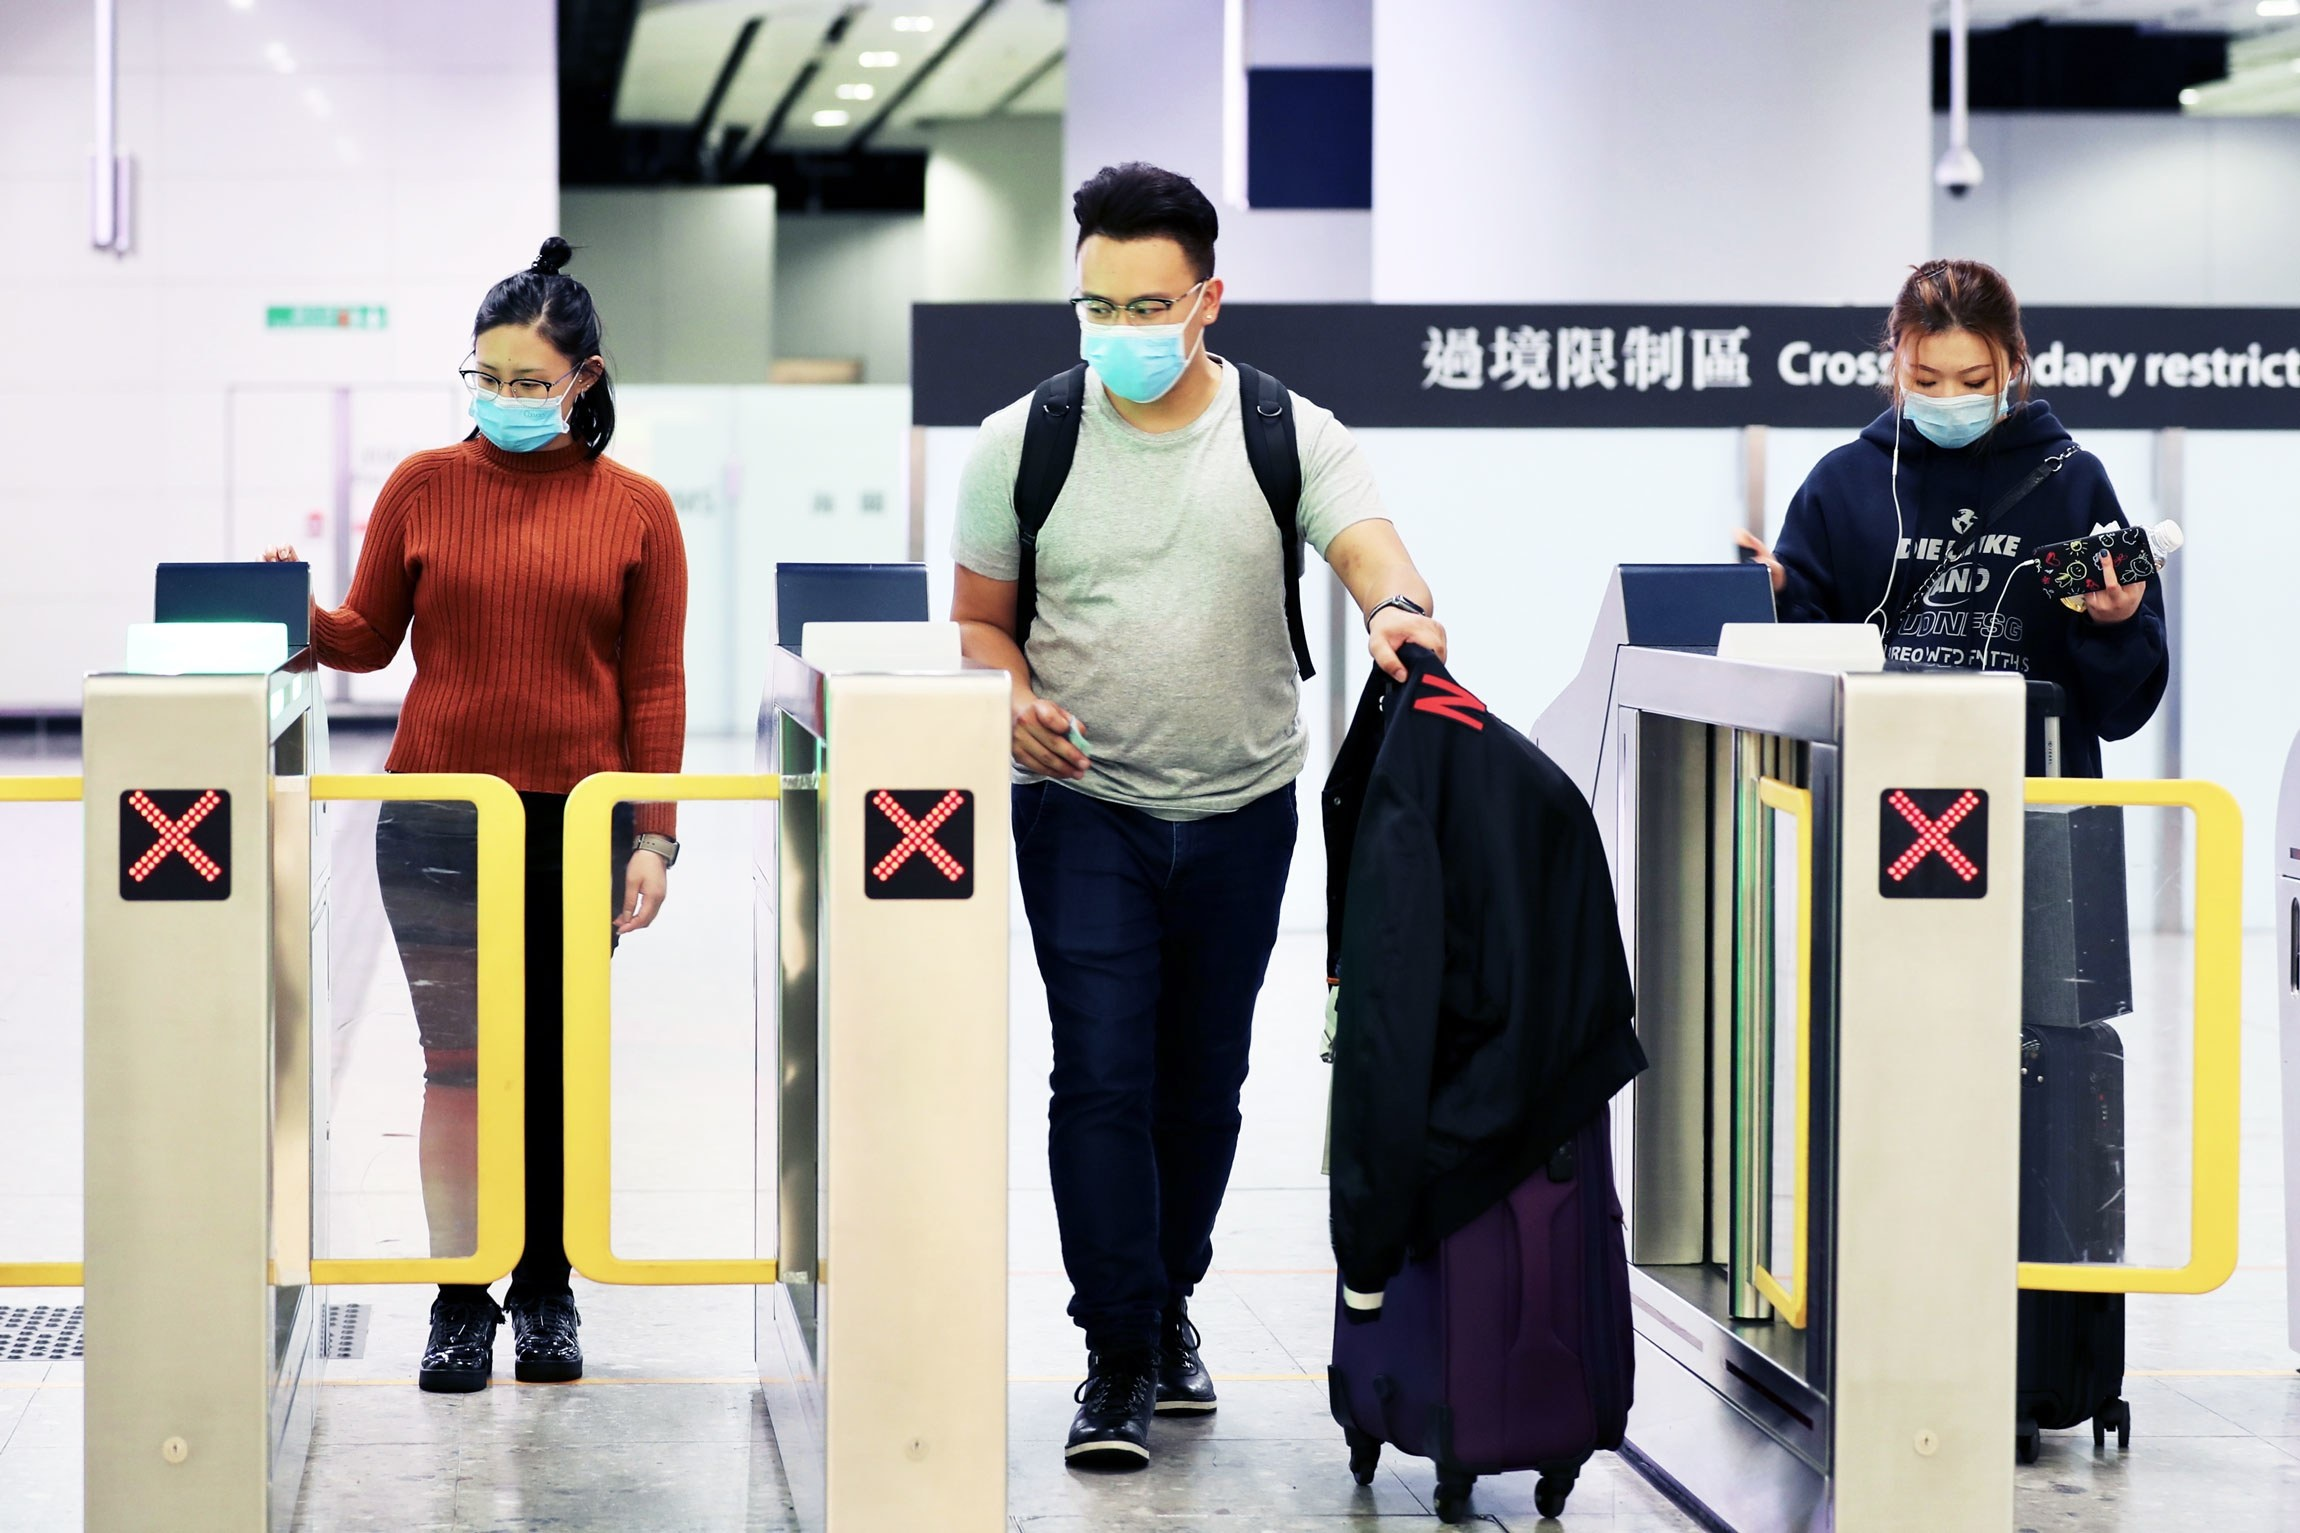with_mask: (1056, 228, 1228, 409), (459, 301, 604, 442), (1891, 304, 2010, 462)
